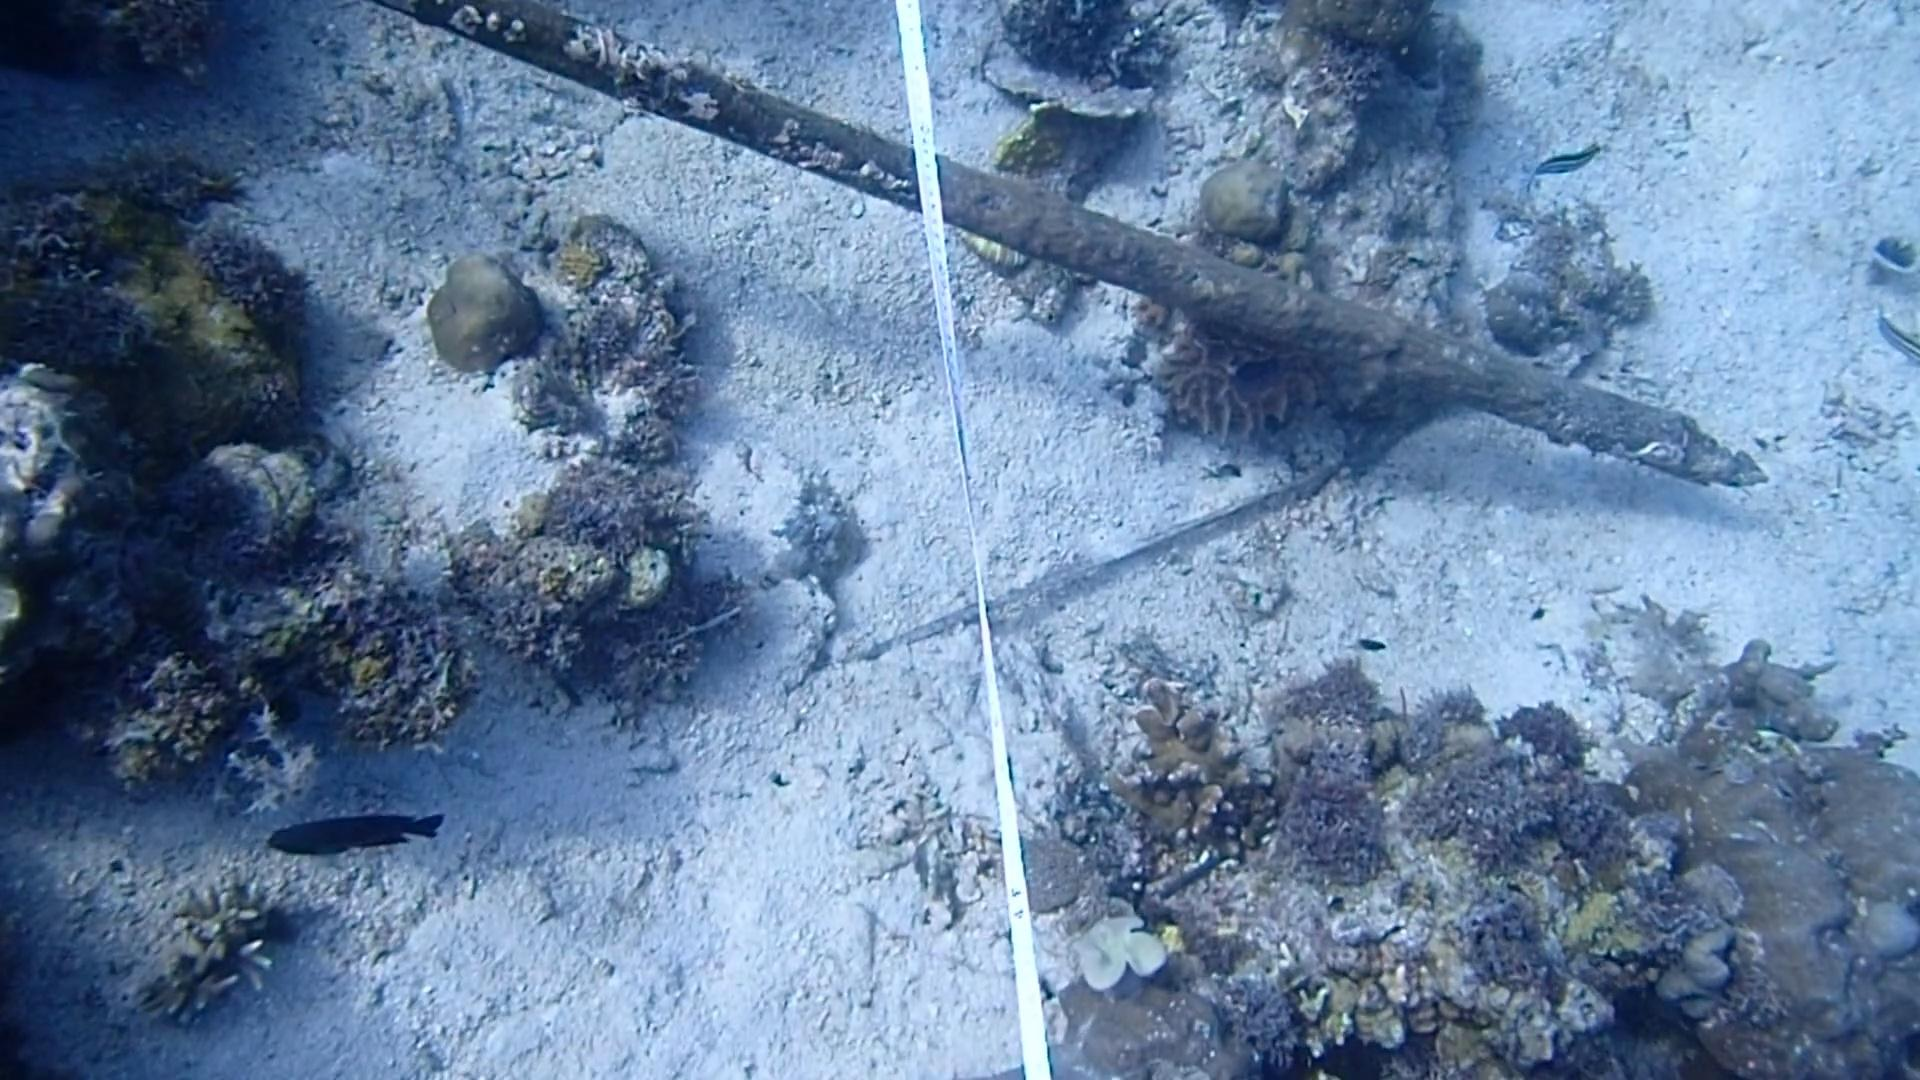Dark Fish: (255, 806, 447, 855)
Striped Fish: (1516, 117, 1605, 200), (1866, 305, 1920, 364)
